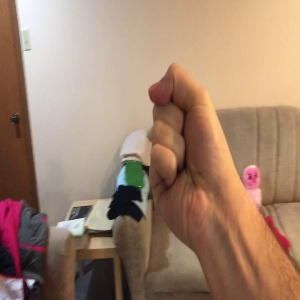hand: (148, 65, 240, 232)
